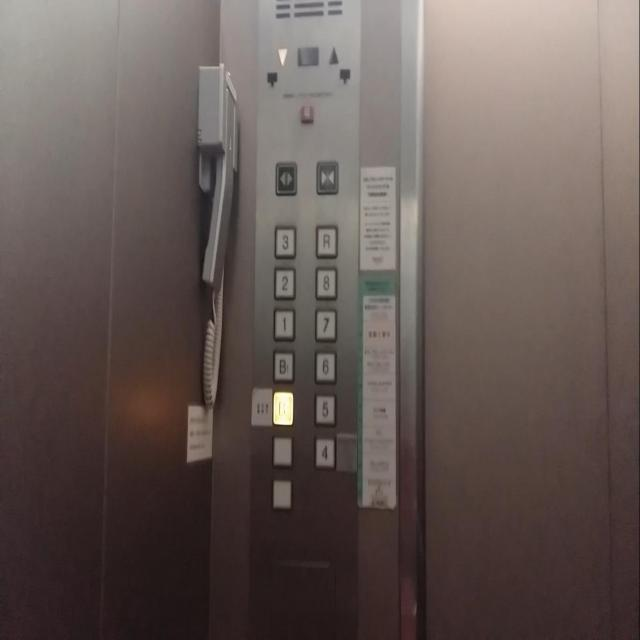1: (272, 306, 295, 342)
2: (272, 265, 296, 301)
3: (273, 224, 296, 260)
4: (313, 434, 335, 470)
5: (313, 392, 336, 428)
6: (314, 349, 336, 384)
7: (314, 306, 337, 342)
8: (314, 265, 338, 300)
B1: (272, 348, 294, 384)
R: (314, 223, 338, 259)
blur: (272, 390, 293, 425), (301, 104, 314, 122)
close: (316, 159, 338, 195)
empty: (271, 432, 293, 470), (270, 475, 292, 512)
open: (274, 161, 297, 196)
